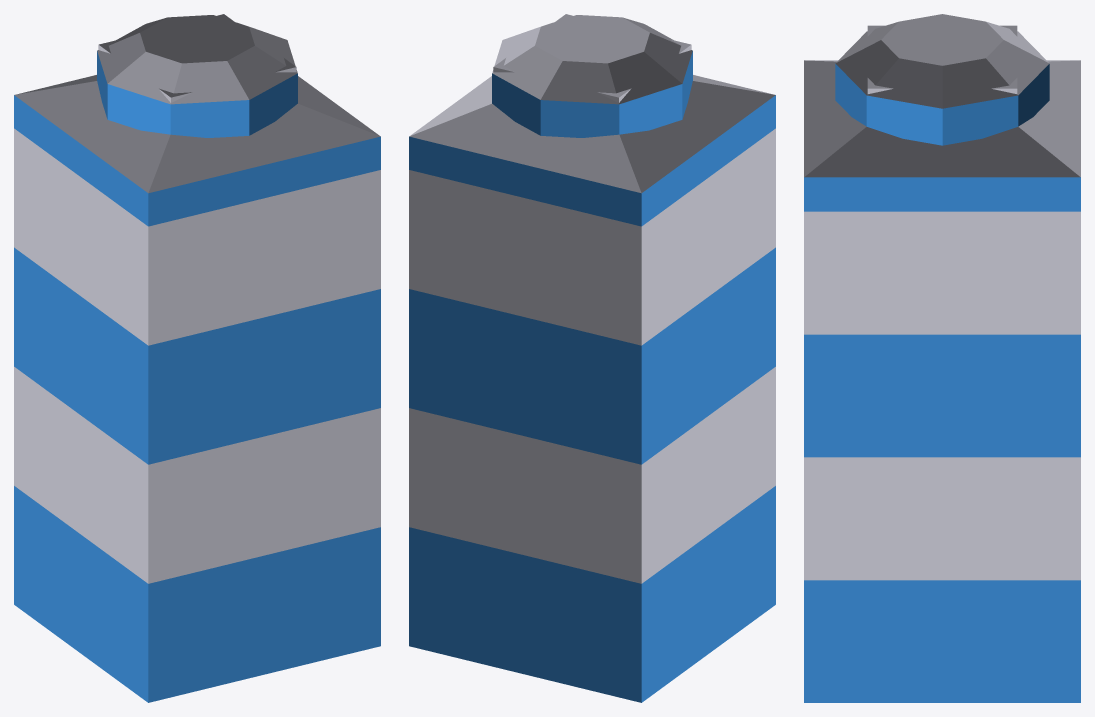
The model's file is Milk Carton 2.fbx.
3 views of the same model, side by side, from view 1: azimuth 30°, elevation 25°; view 2: azimuth 150°, elevation 25°; view 3: azimuth 270°, elevation 25° (orthographic). The views are drawn at different scales.
Visible parts, largest first — view 1: Node 0; view 2: Node 0; view 3: Node 0.
Boxes of the visible parts, x1,y1,x2,y2 form: Node 0: (14, 14, 380, 702); Node 0: (409, 14, 775, 702); Node 0: (804, 14, 1080, 702).
Size of the model in its own units: 0.1593 by 0.3837 by 0.1593.
